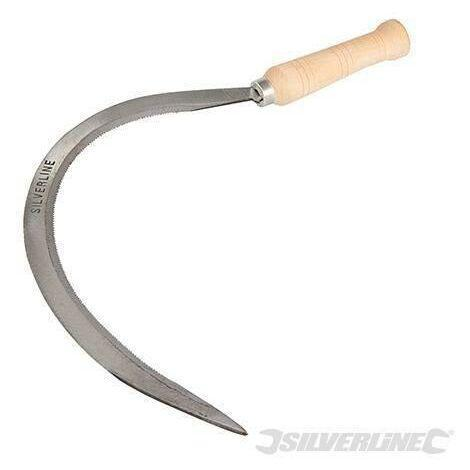foice: (28, 19, 406, 444)
